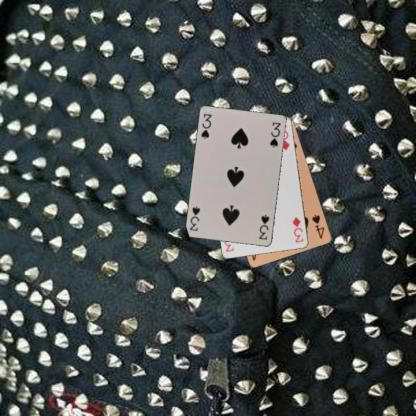3d: (290, 214, 305, 244)
3s: (256, 212, 271, 241), (199, 112, 213, 140)
4s: (310, 212, 326, 240)
